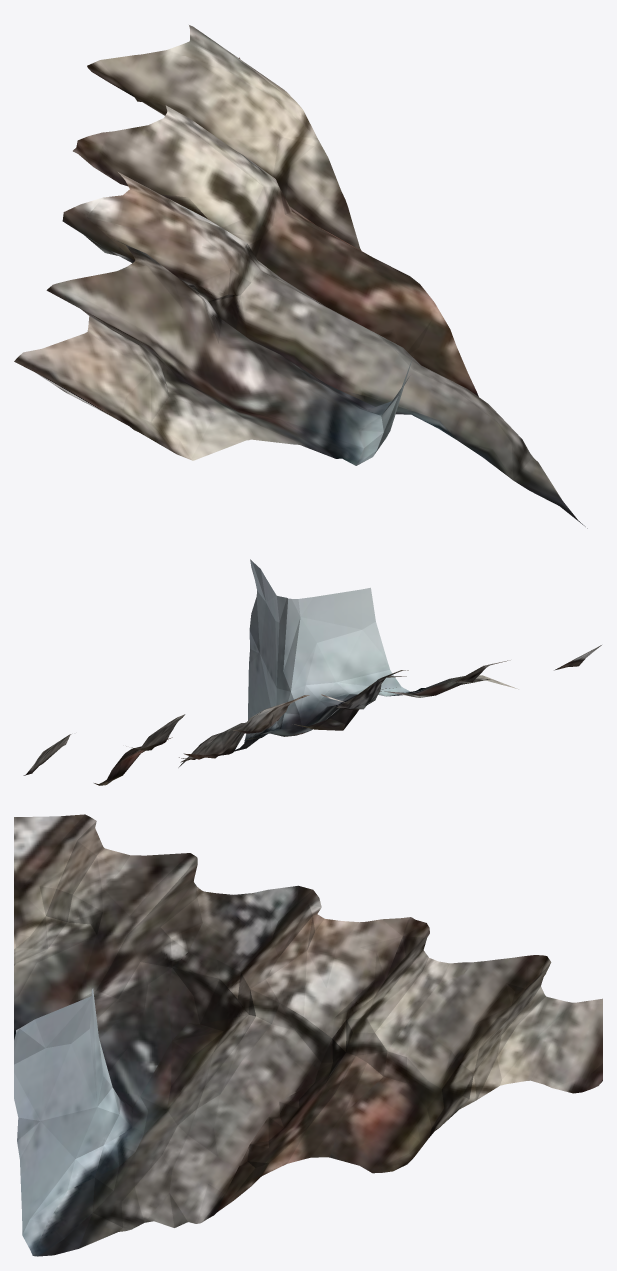
The picture shows the model from 3 angles, top to bottom: view 1: azimuth 30°, elevation 25°; view 2: azimuth 150°, elevation 25°; view 3: azimuth 270°, elevation 25°; orthographic projection. The views are drawn at different scales.
Bounding box in the file's own units: 0.7256 × 0.3551 × 0.8373.
Materials: 2 (2 with a texture image).
